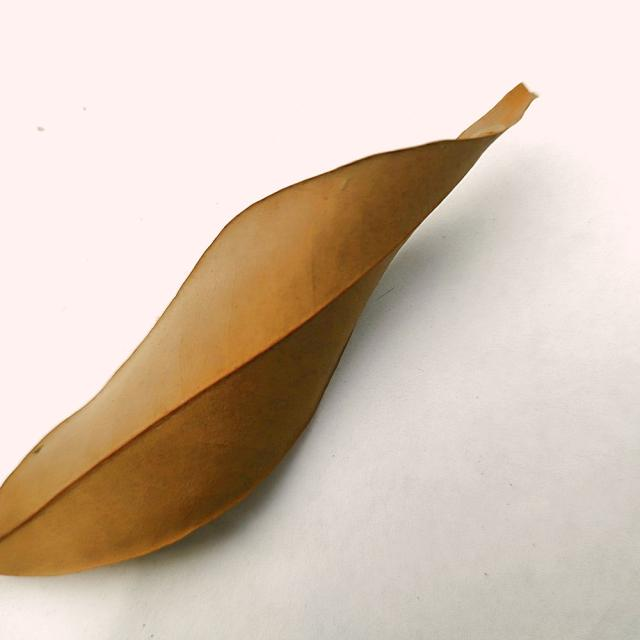Dry_Leaf-Lychee: (0, 84, 538, 580)
